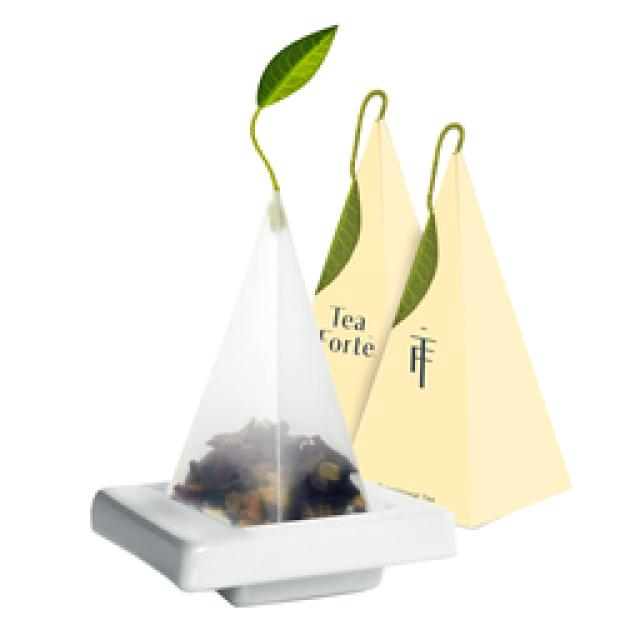tea-bags: (110, 121, 570, 604)
